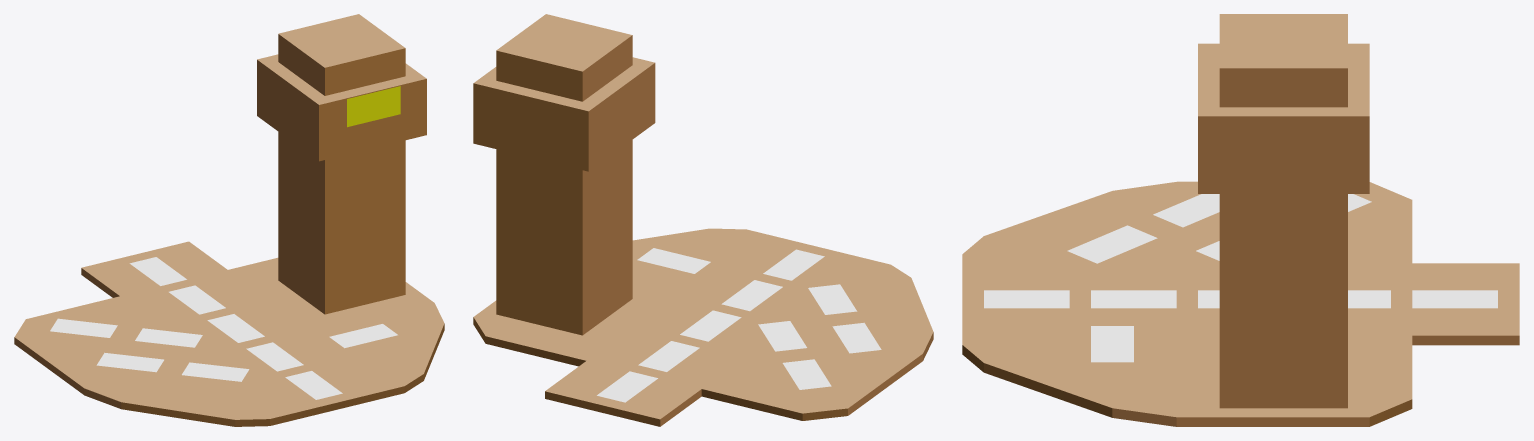
The model's file is Airport.BrownDesert.glb.
The picture shows the model from 3 angles, left to right: view 1: azimuth 30°, elevation 25°; view 2: azimuth 150°, elevation 25°; view 3: azimuth 270°, elevation 25°; orthographic projection. The views are drawn at different scales.
Parts seen in each view (by area): view 1: Airport.BrownDesert; view 2: Airport.BrownDesert; view 3: Airport.BrownDesert.
Part boxes in pixels (<box>): Airport.BrownDesert: <box>14,14,444,426</box>; Airport.BrownDesert: <box>473,14,933,426</box>; Airport.BrownDesert: <box>962,14,1519,426</box>.
Bounding box in the file's own units: 2.6 × 1.8 × 2.6.
Materials: 2 (1 with a texture image).
